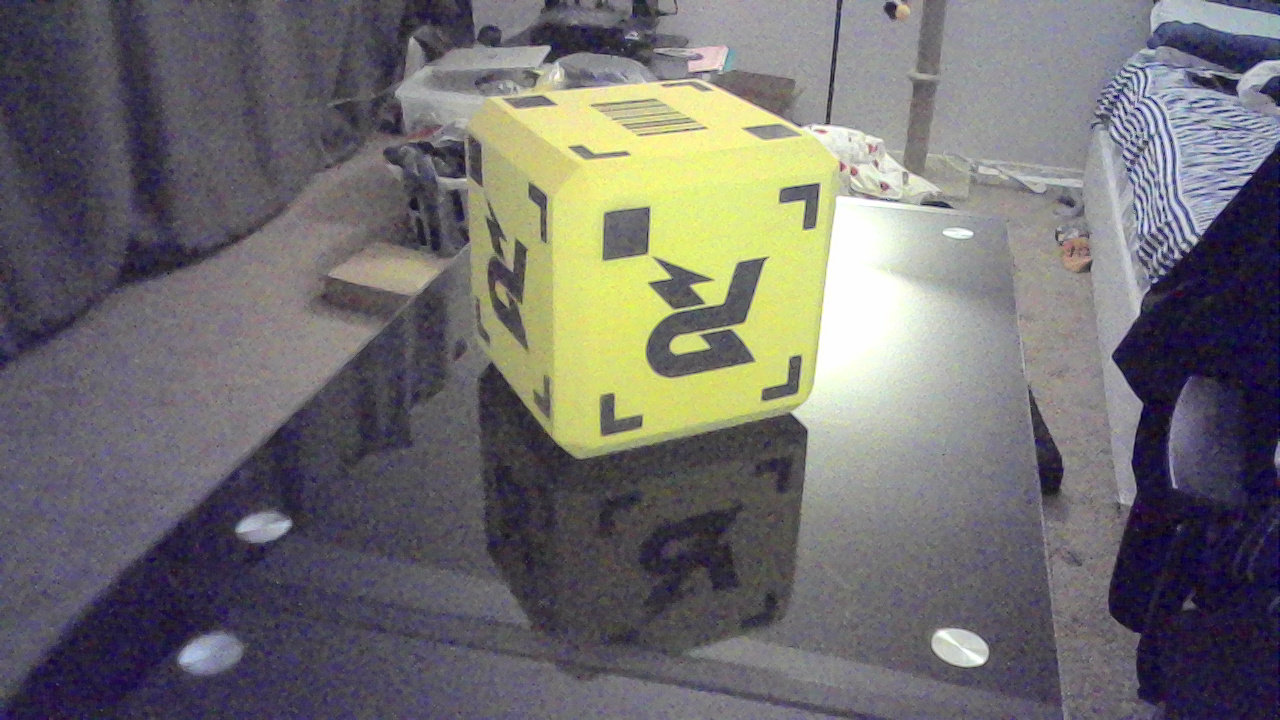Barcode: (600, 90, 708, 151)
R: (650, 250, 775, 382), (479, 221, 545, 353)
